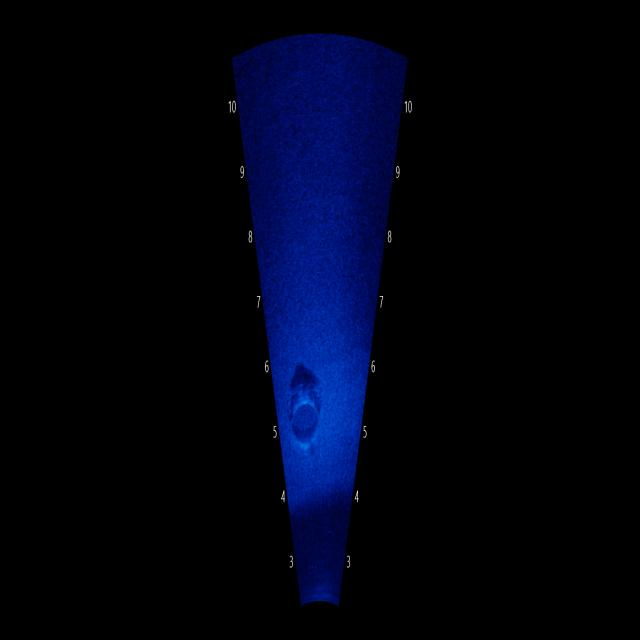circle: (280, 362, 335, 468)
